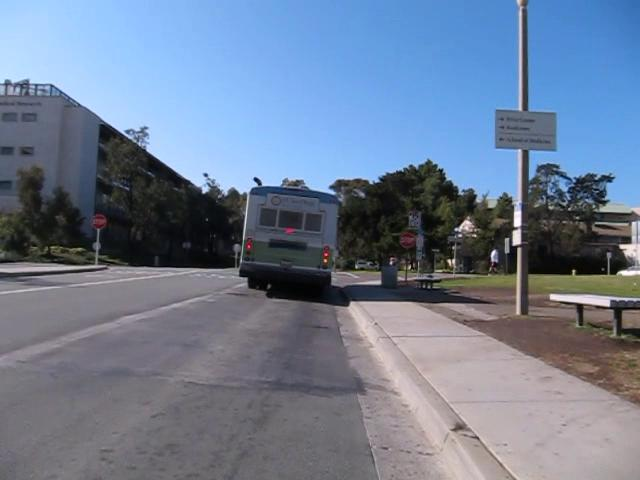stop: (91, 213, 107, 229)
